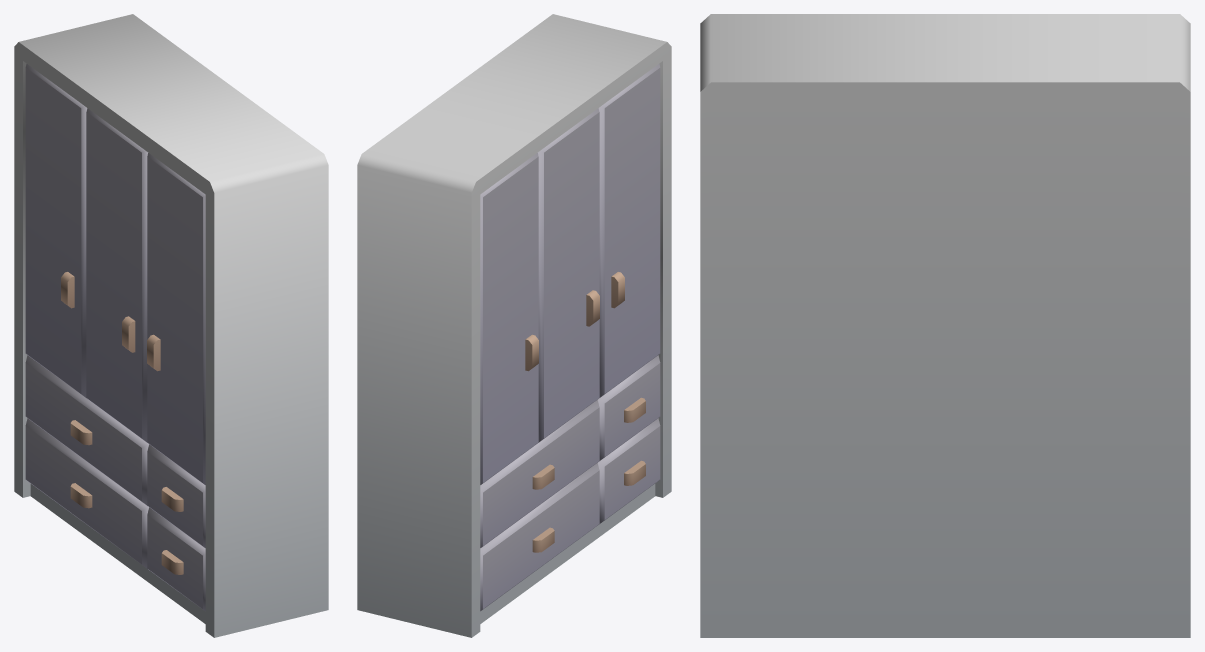
The model's file is cabinet-clothing-drawers-wide.glb.
The picture shows the model from 3 angles, left to right: view 1: azimuth 30°, elevation 25°; view 2: azimuth 150°, elevation 25°; view 3: azimuth 270°, elevation 25°; orthographic projection. The views are drawn at different scales.
Visible parts, largest first — view 1: cabinet-clothing-drawers-wide; view 2: cabinet-clothing-drawers-wide; view 3: cabinet-clothing-drawers-wide.
Boxes of the visible parts, x1,y1,x2,y2 form: cabinet-clothing-drawers-wide: (14, 14, 328, 637); cabinet-clothing-drawers-wide: (357, 14, 671, 637); cabinet-clothing-drawers-wide: (700, 14, 1190, 637).
Size of the model in its own units: 0.403 by 1.44 by 1.15.
